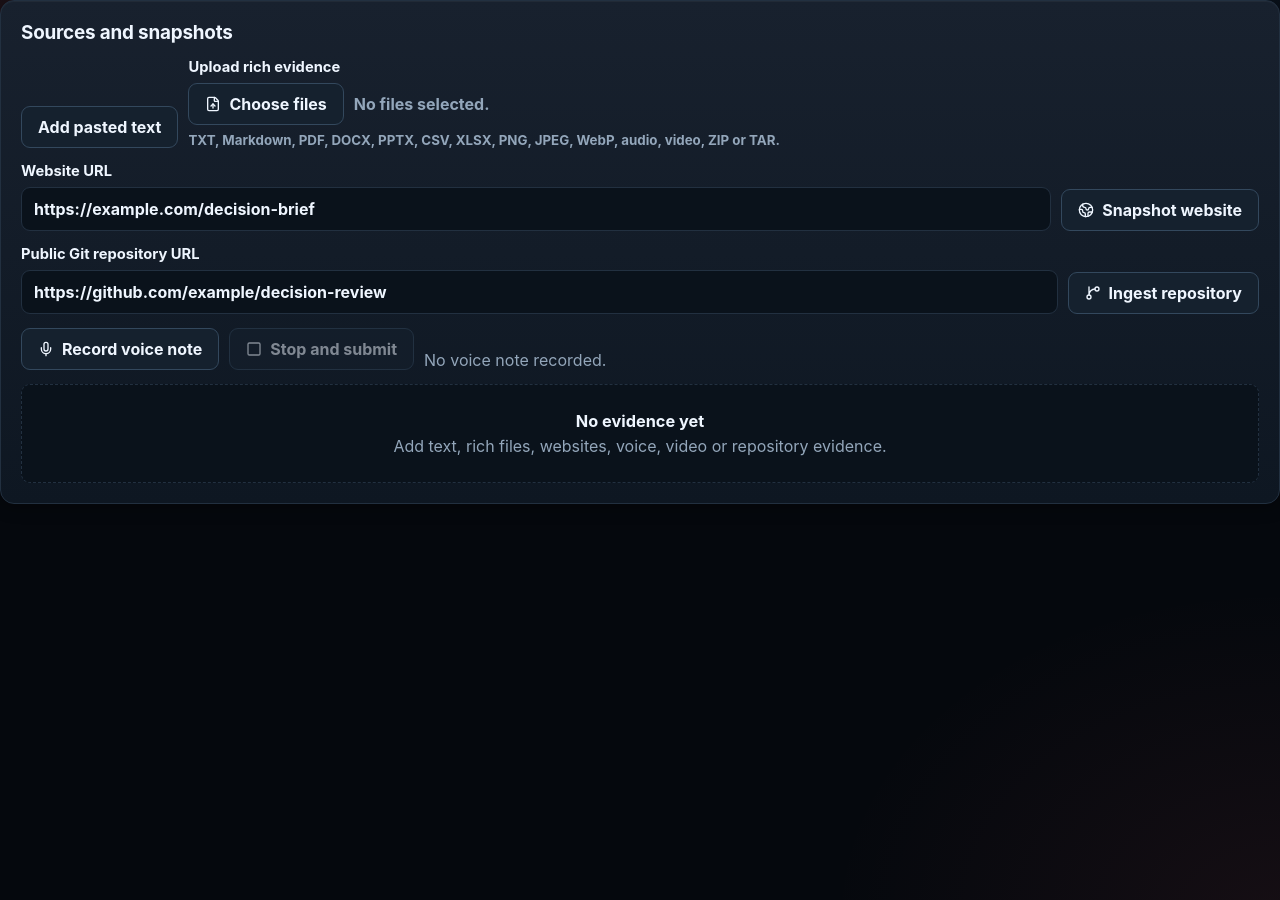
it: Stage 2 voice source intake › shows live microphone input when the browser reports voice signal
Click the button "Record voice note" at (120, 349), box 21,328 -> 219,370
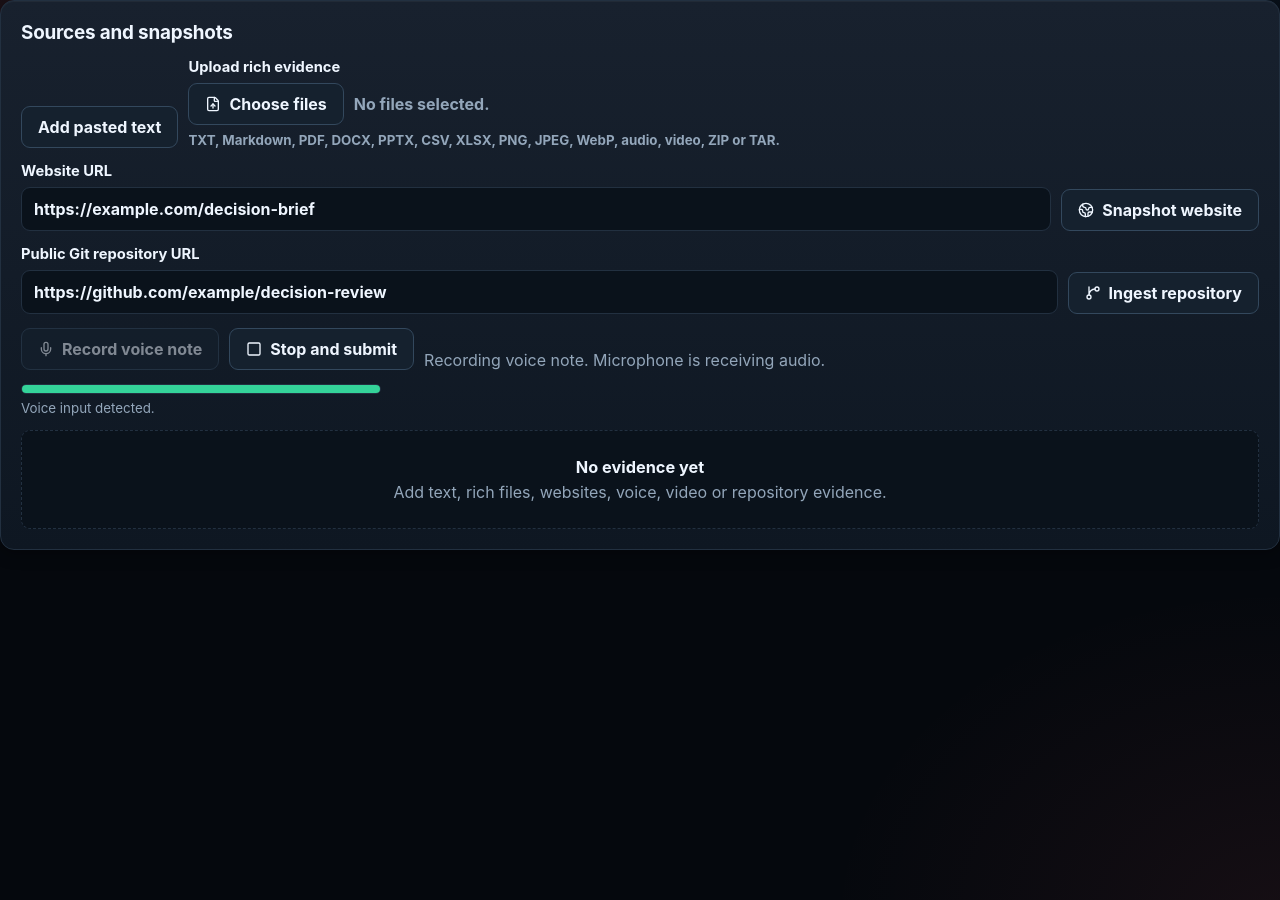
Expected: the text "Recording voice note. Microphone is receiving audio." is shown, 424,350 -> 825,370
Expected: the text "Voice input detected." is shown, 21,400 -> 155,416
